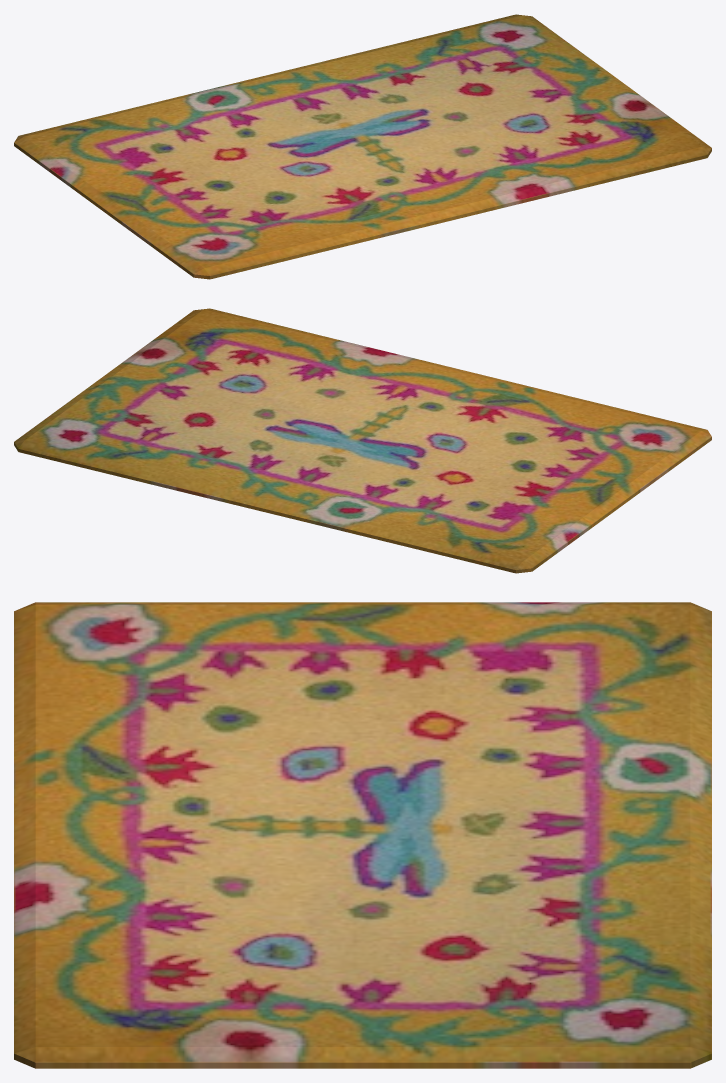
Rendered from sweethome3d-katorlegaz-bathmat.glb.
The picture shows the model from 3 angles, top to bottom: view 1: azimuth 30°, elevation 25°; view 2: azimuth 150°, elevation 25°; view 3: azimuth 270°, elevation 25°; orthographic projection. The views are drawn at different scales.
Visible parts, largest first — view 1: Bathmat; view 2: Bathmat; view 3: Bathmat.
Boxes of the visible parts, x1,y1,x2,y2 form: Bathmat: (14, 14, 711, 279); Bathmat: (14, 308, 711, 573); Bathmat: (14, 602, 711, 1068).
Bounding box in the file's own units: 73.37 × 1.42 × 46.99.
Materials: 1 (1 with a texture image).
